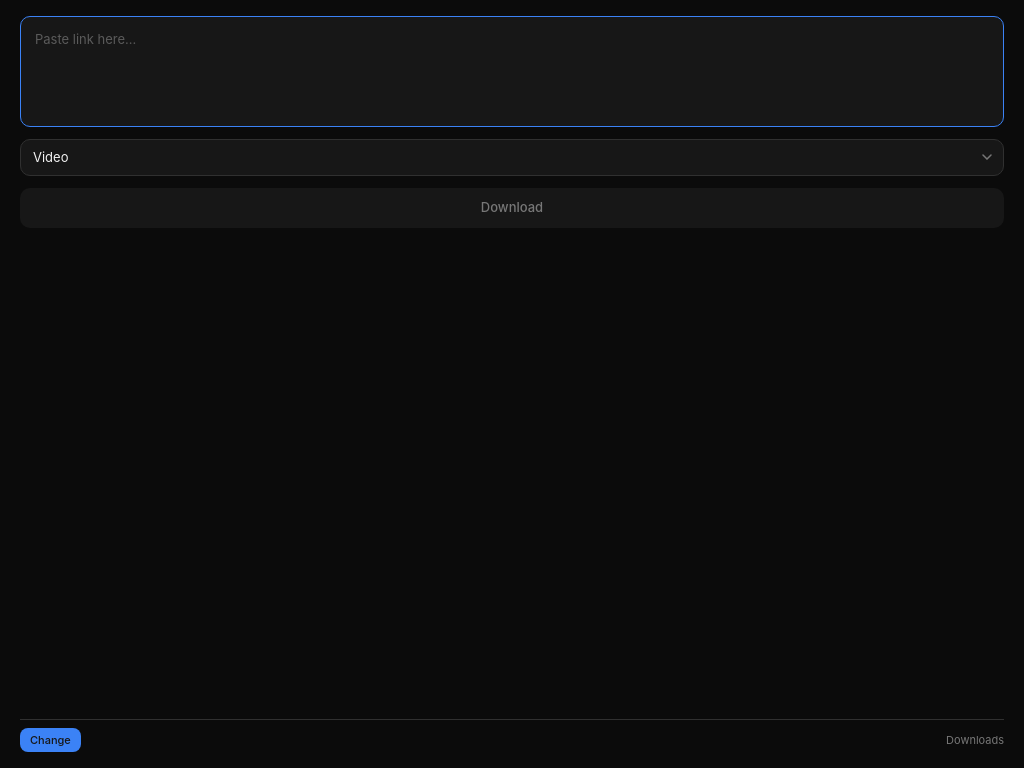
Test case: linkFetch › enables the button once a valid link is entered
This screenshot has width=1024, height=768.
In the text box labelled "link": (512, 71) [20,16,1004,126], type "https://example.com/a.png"
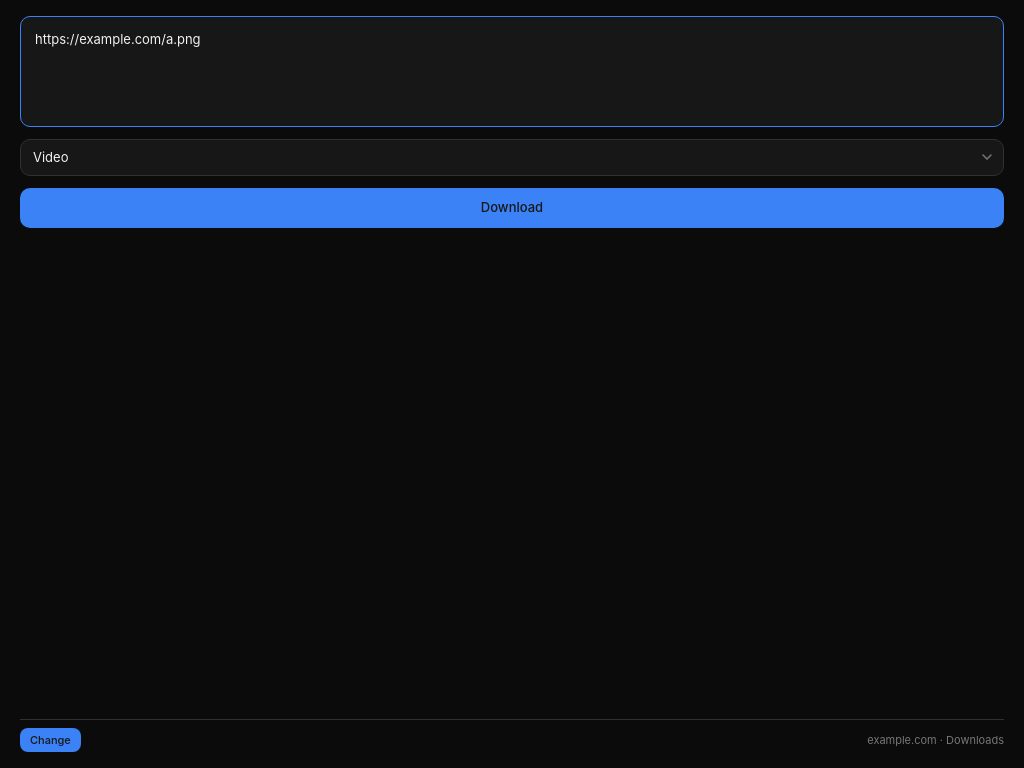
Now the button "Download" is enabled, box [20,188,1004,228]
